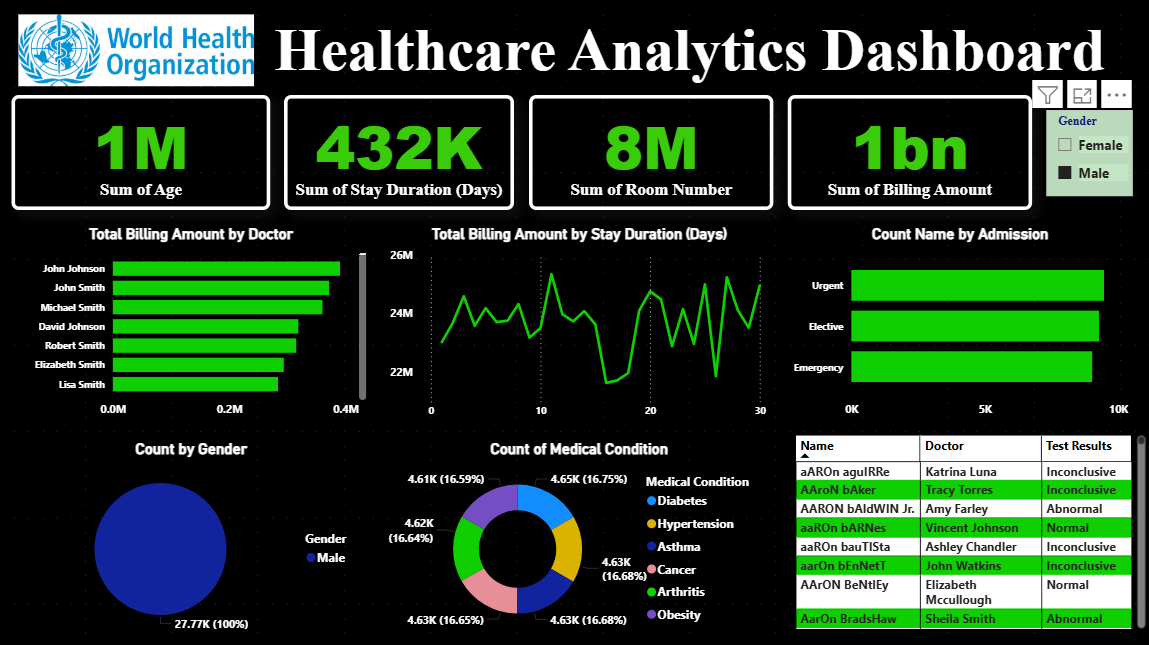

The dashboard page shown, as its layout file describes it:
{"tool":"powerbi","page":{"name":"Page 1","canvas":[1280,720],"ordinal":0},"visuals":[{"type":"card","fields":{"Values":["Sum(healthcare_dataset.Stay Duration (Days))"]},"box":[317.4,105.9,256,128],"z":0},{"type":"card","fields":{"Values":["Sum(healthcare_dataset.Age)"]},"box":[13.4,105.9,288,128],"z":1000},{"type":"card","fields":{"Values":["Sum(healthcare_dataset.Room Number)"]},"box":[589.4,105.9,272,128],"z":2000},{"type":"card","fields":{"Values":["Sum(healthcare_dataset.Billing Amount)"]},"box":[877.4,105.9,272,128],"z":3000},{"type":"pieChart","title":"Count by Gender","fields":{"Category":["healthcare_dataset.Gender"],"Y":["CountNonNull(healthcare_dataset.Name)"]},"box":[13.4,489.9,400,224],"z":4000},{"type":"barChart","title":"Count Name by Admission ","fields":{"Y":["CountNonNull(healthcare_dataset.Name)"],"Category":["healthcare_dataset.Admission Type"]},"box":[877.4,249.9,384,224],"z":5000},{"type":"donutChart","title":"Count of Medical Condition ","fields":{"Category":["healthcare_dataset.Medical Condition"],"Y":["CountNonNull(healthcare_dataset.Medical Condition)"]},"box":[429.4,489.9,432,224],"z":6000},{"type":"lineChart","title":"Total Billing Amount by Stay Duration (Days)","fields":{"Y":["Sum(healthcare_dataset.Billing Amount)"],"Category":["healthcare_dataset.Stay Duration (Days)"]},"box":[429.4,249.9,432,224],"z":7000},{"type":"clusteredBarChart","title":"Total Billing Amount by Doctor","fields":{"Category":["healthcare_dataset.Doctor"],"Y":["Sum(healthcare_dataset.Billing Amount)"]},"box":[13.4,249.9,400,224],"z":8000},{"type":"tableEx","fields":{"Values":["healthcare_dataset.Name","healthcare_dataset.Doctor","healthcare_dataset.Test Results"]},"box":[880,480,400,224],"z":9000},{"type":"slicer","fields":{"Values":["healthcare_dataset.Gender"]},"box":[1165.4,121.9,96,96],"z":10000},{"type":"shape","title":"Healthcare Analytics Dashboard","box":[272,16,992,80],"z":11000},{"type":"image","box":[16,0,272,112],"z":12000}]}

Visuals, with their boxes in screenshot pixels (x1, y1, x2, y2), scaled from the page's 1280x720 canvas onto the 1149x645 screenshot:
card - Sum(healthcare_dataset.Stay Duration (Days)): (x1=285, y1=95, x2=515, y2=210)
card - Sum(healthcare_dataset.Age): (x1=12, y1=95, x2=271, y2=210)
card - Sum(healthcare_dataset.Room Number): (x1=529, y1=95, x2=773, y2=210)
card - Sum(healthcare_dataset.Billing Amount): (x1=788, y1=95, x2=1032, y2=210)
"Count by Gender" pieChart: (x1=12, y1=439, x2=371, y2=640)
"Count Name by Admission " barChart: (x1=788, y1=224, x2=1132, y2=425)
"Count of Medical Condition " donutChart: (x1=385, y1=439, x2=773, y2=640)
"Total Billing Amount by Stay Duration (Days)" lineChart: (x1=385, y1=224, x2=773, y2=425)
"Total Billing Amount by Doctor" clusteredBarChart: (x1=12, y1=224, x2=371, y2=425)
tableEx - healthcare_dataset.Name x healthcare_dataset.Doctor: (x1=790, y1=430, x2=1148, y2=631)
slicer - healthcare_dataset.Gender: (x1=1046, y1=109, x2=1132, y2=195)
"Healthcare Analytics Dashboard" shape: (x1=244, y1=14, x2=1135, y2=86)
image: (x1=14, y1=0, x2=259, y2=100)
